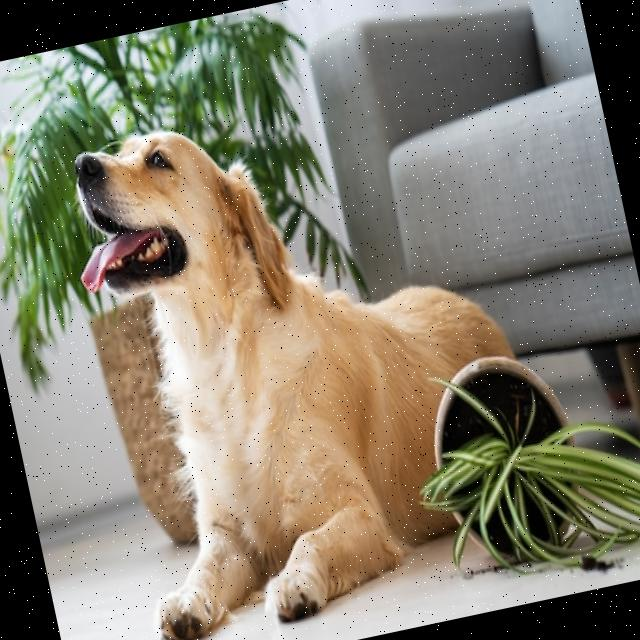Dog: (55, 65, 561, 640)
